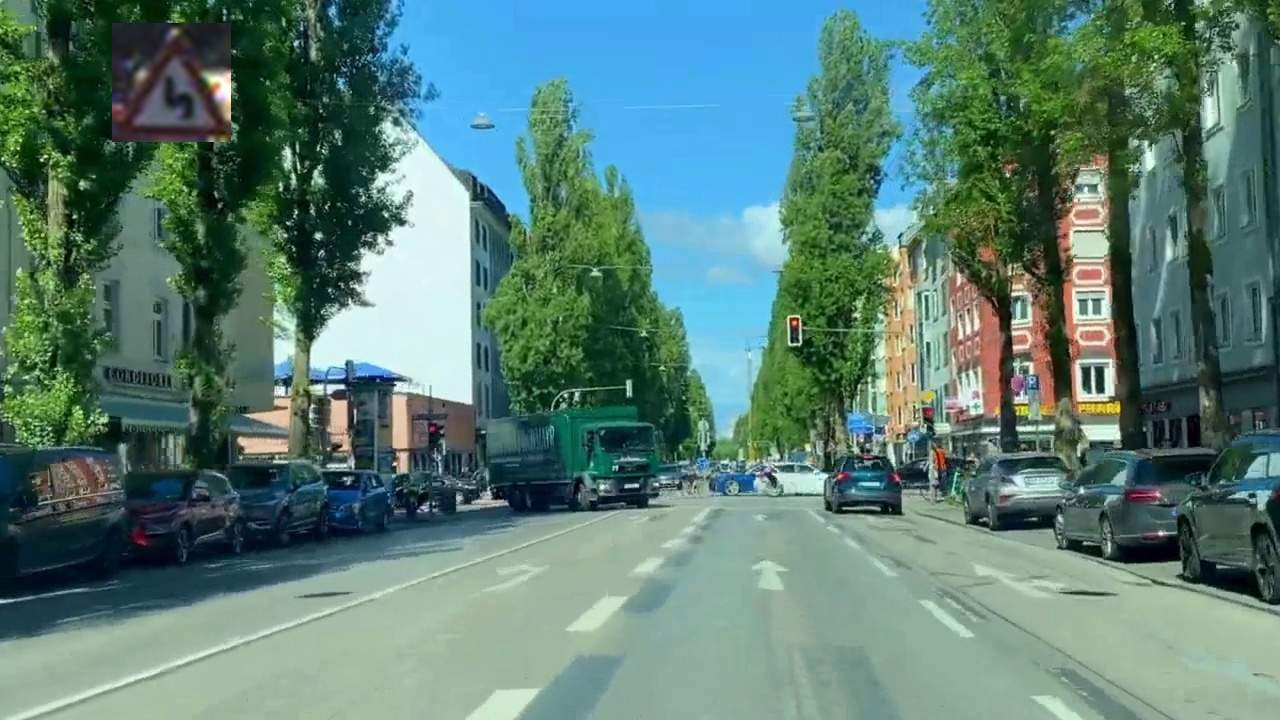Double curve: (112, 23, 231, 142)
